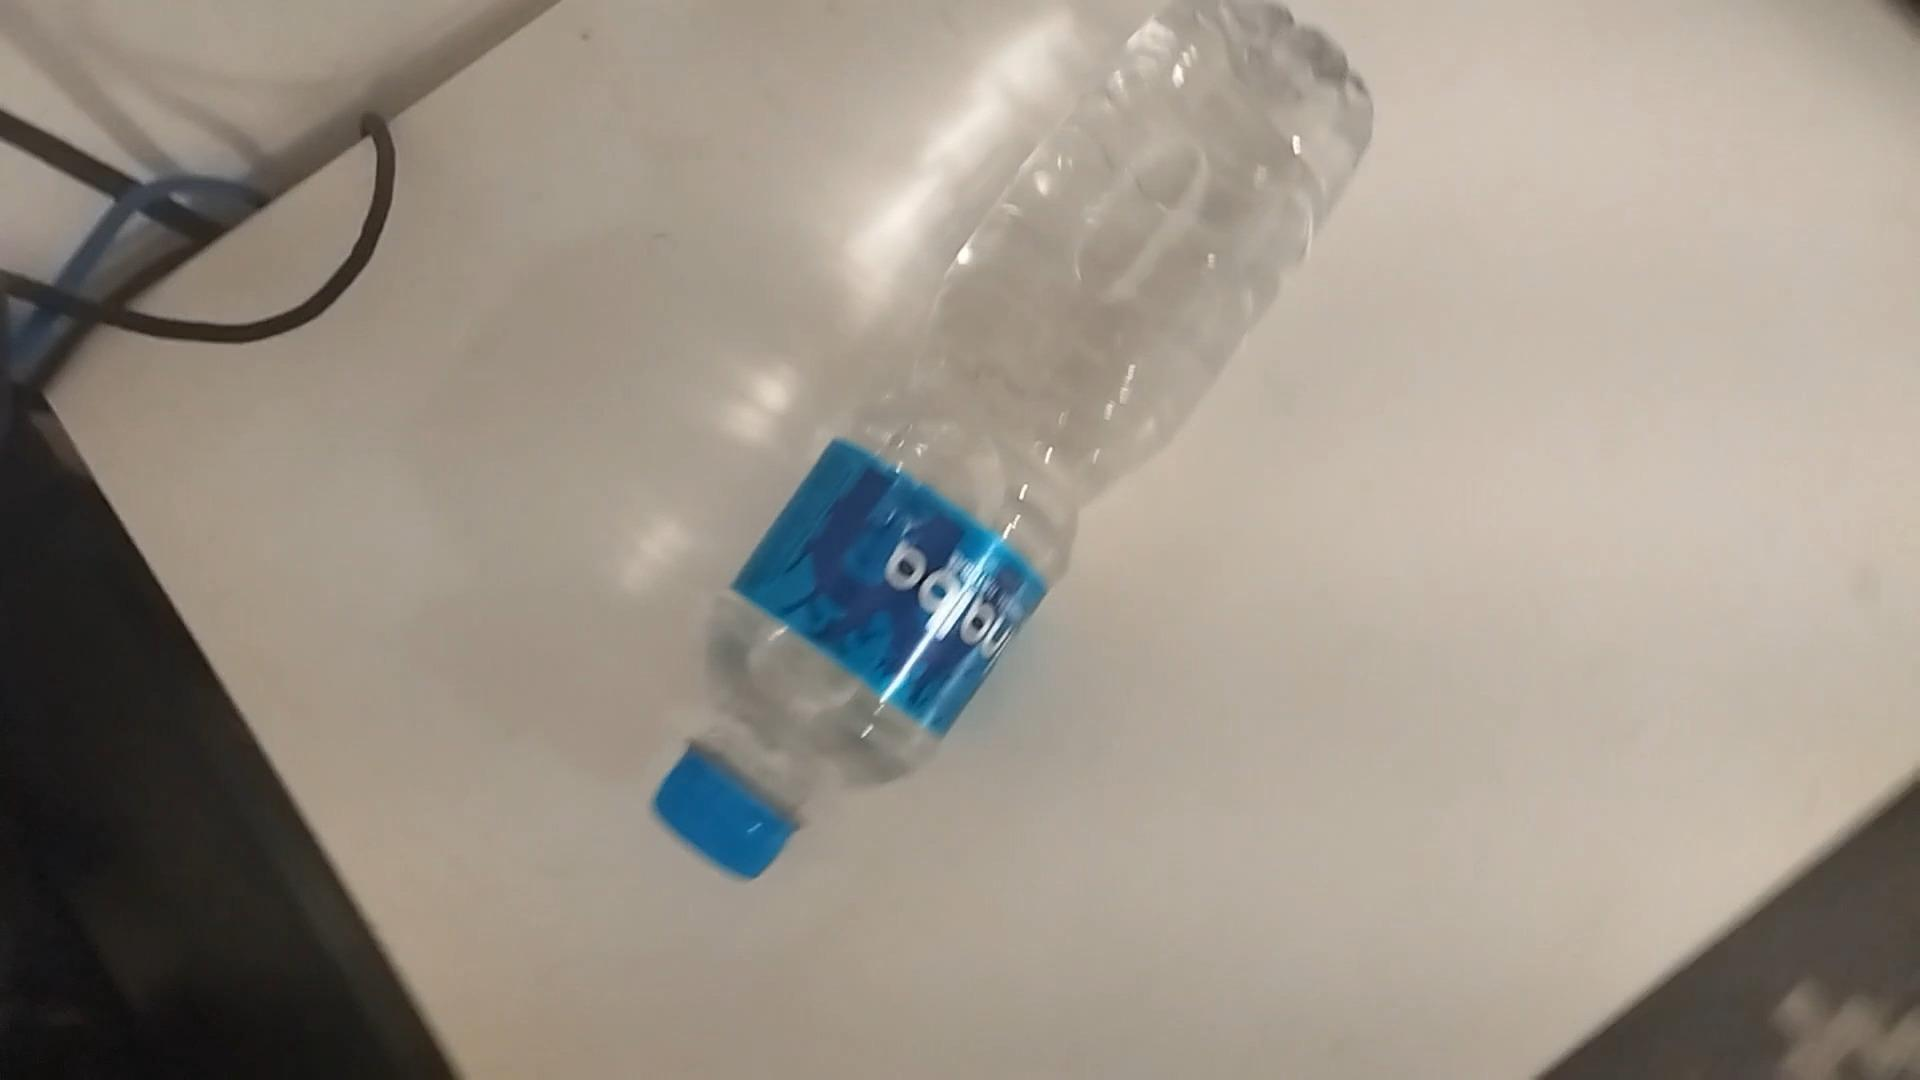agua: (647, 5, 1354, 884)
